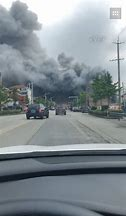smoke: (1, 1, 84, 88)
